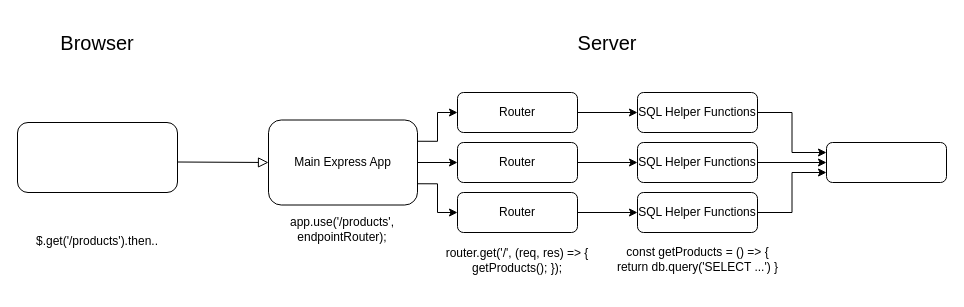
Image size: 964x307. Some labels were removed from this diagram. Here are the shapes that lost their labels. From the top down, the centre of each, then its label:
(x=97, y=157): HTTP Request: img, link, script, ajax
(x=886, y=162): Database
